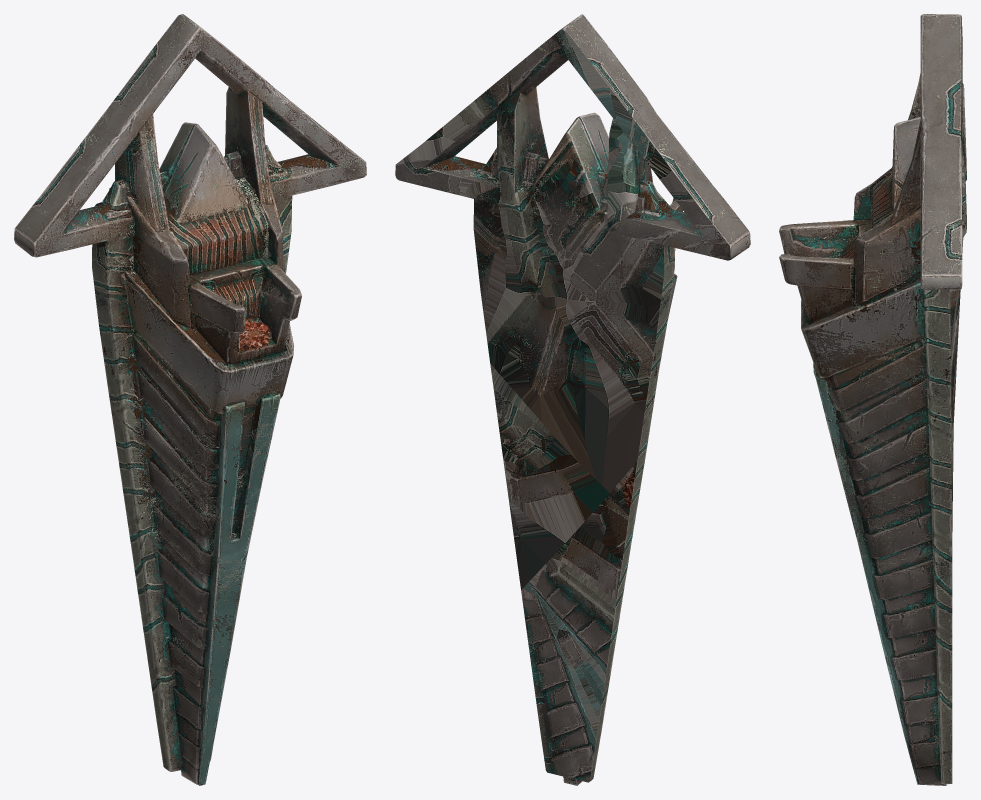
Rendered from dwf_torch_01.dae.
3 views of the same model, side by side, from view 1: azimuth 30°, elevation 25°; view 2: azimuth 150°, elevation 25°; view 3: azimuth 270°, elevation 25° (orthographic).
Parts seen in each view (by area): view 1: DWF_Torch_01; view 2: DWF_Torch_01; view 3: DWF_Torch_01.
Boxes of the visible parts, <box> form: DWF_Torch_01: <box>14,14,366,785</box>; DWF_Torch_01: <box>395,14,750,785</box>; DWF_Torch_01: <box>779,14,966,785</box>.
Size of the model in its own units: 54.66 by 119 by 26.26.
